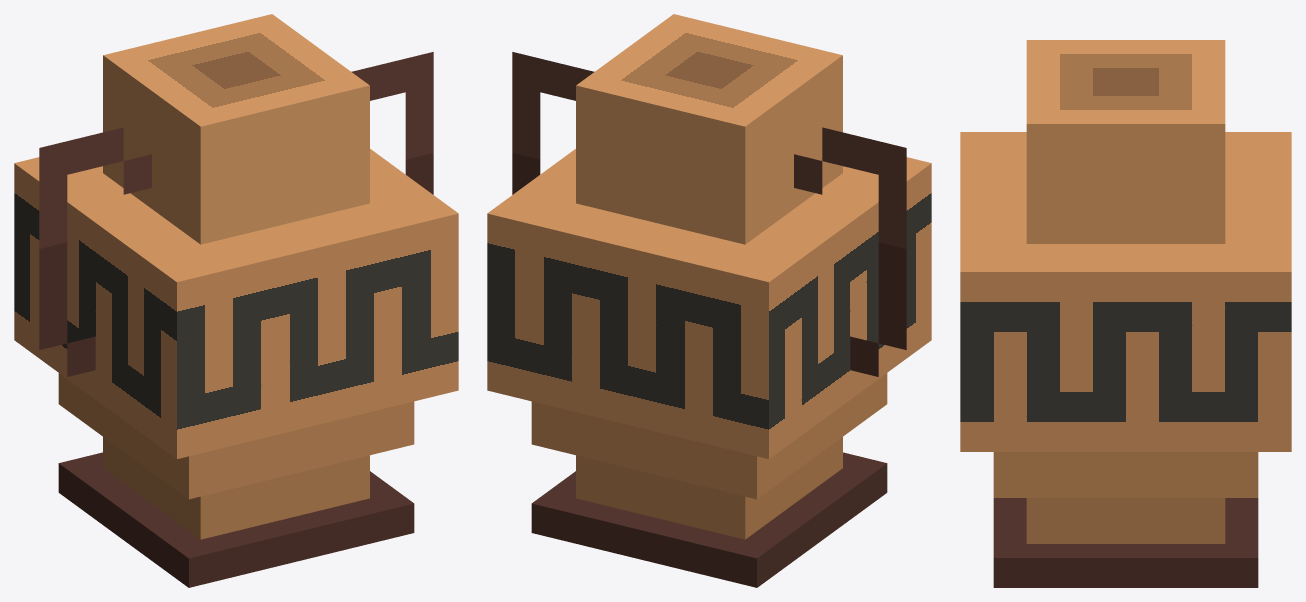
Rendered from 4_wall_b.geo.obj.
The picture shows the model from 3 angles, left to right: view 1: azimuth 30°, elevation 25°; view 2: azimuth 150°, elevation 25°; view 3: azimuth 270°, elevation 25°; orthographic projection.
Parts seen in each view (by area): view 1: bb_main; view 2: bb_main; view 3: bb_main.
Part boxes in pixels (<box>): bb_main: <box>14,14,458,587</box>; bb_main: <box>487,14,931,587</box>; bb_main: <box>960,40,1291,587</box>.
Bounding box in the file's own units: 0.875 × 0.9375 × 0.625.
Materials: 1 (1 with a texture image).
